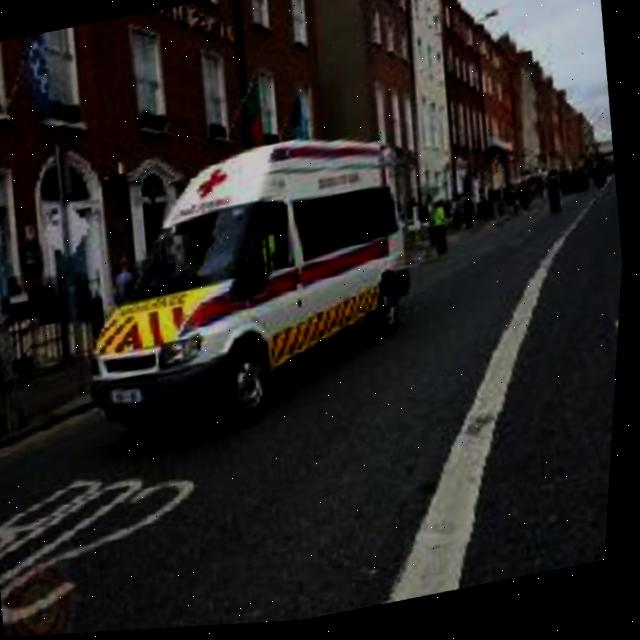emergency: (58, 110, 430, 477)
